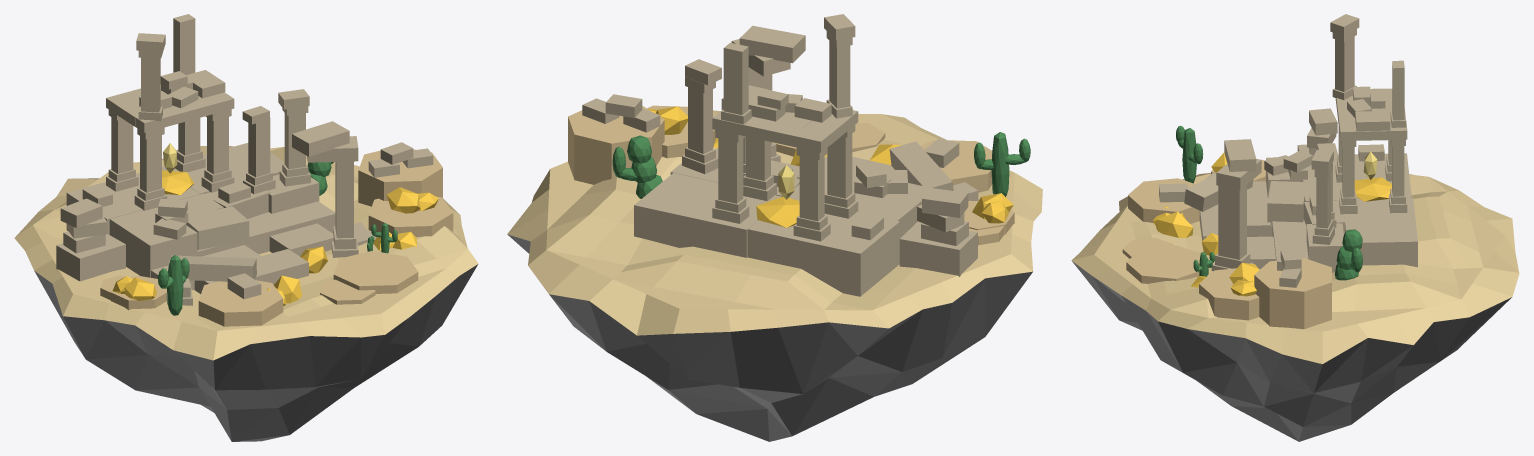
File: Island_Yellow.glb
3 views of the same model, side by side, from view 1: azimuth 30°, elevation 25°; view 2: azimuth 150°, elevation 25°; view 3: azimuth 270°, elevation 25° (orthographic). The views are drawn at different scales.
Parts seen in each view (by area): view 1: Cone, Cylinder, Cylinder.005, Cylinder.004, Cylinder.003, Cube.086, Cube.060, Cube.062, Cube.097, Cube.092, Cube.094, Cube.064 (+40 smaller); view 2: Cone, Cylinder.004, Cube.086, Cube.055, Cube.057, Cube.059, Cube.053, Icosphere.018, Cube.103, Cube.097, Cube.094, Icosphere.010 (+34 smaller); view 3: Cone, Cylinder.004, Cylinder.005, Cube.092, Cylinder.003, Cylinder, Cube.060, Cube.057, Icosphere.018, Cube.056, Cube.099, Cube.065 (+20 smaller).
Part boxes in pixels (x1,y1,x2,y2): Cone: (14,146,478,441); Cylinder: (198,280,283,326); Cylinder.005: (333,251,418,293); Cylinder.004: (358,149,442,206); Cylinder.003: (368,196,453,237); Cube.086: (56,234,125,281); Cube.060: (186,206,249,250); Cube.062: (130,225,197,264); Cube.097: (168,255,256,281); Cube.092: (335,161,353,238); Cube.094: (292,121,349,156); Cube.064: (269,223,333,256); Cone: (507,110,1042,441); Cylinder.004: (568,106,664,184); Cube.086: (899,221,977,276); Cube.055: (803,227,879,276); Cube.057: (634,189,710,240); Cube.059: (690,202,757,252); Cube.053: (747,220,807,263); Icosphere.018: (612,135,662,198); Cube.103: (723,42,748,115); Cube.097: (889,141,953,190); Cube.094: (739,25,805,63); Icosphere.010: (974,132,1030,196); Cone: (1071,173,1519,441); Cylinder.004: (1254,258,1331,329); Cylinder.005: (1126,245,1200,283); Cube.092: (1218,185,1246,259); Cylinder.003: (1199,268,1259,320); Cylinder: (1128,178,1199,223); Cube.060: (1267,181,1306,222); Cube.057: (1380,219,1417,260); Icosphere.018: (1334,229,1362,280); Cube.056: (1345,220,1383,261); Cube.099: (1335,36,1354,91); Cube.065: (1306,223,1343,264).
Bounding box in the file's own units: 7.66 × 7.29 × 7.76.
